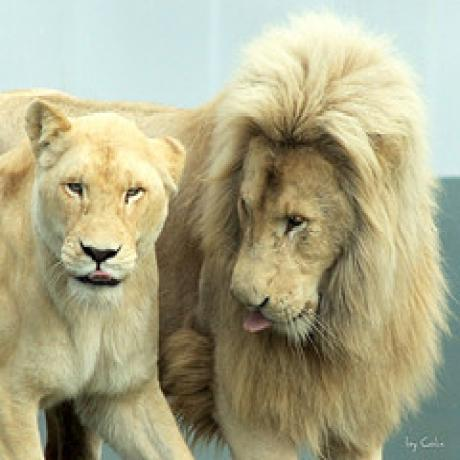Lion: (160, 3, 450, 460), (0, 99, 191, 460)
